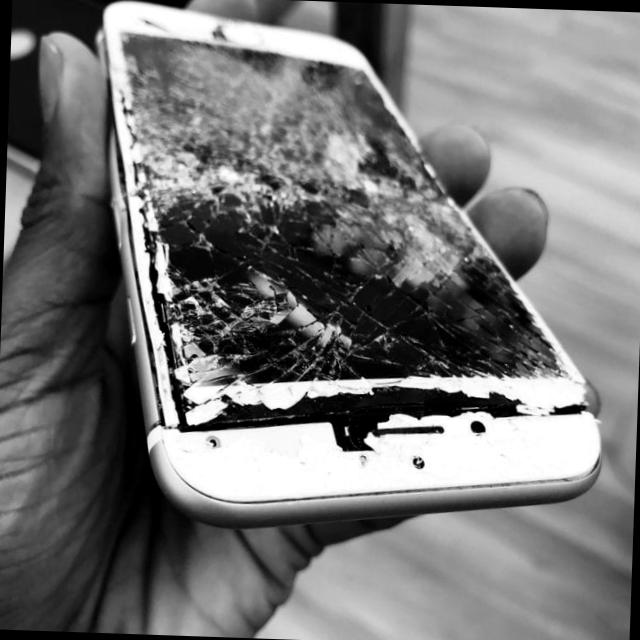Crack: (64, 180, 636, 474), (82, 8, 511, 189)
